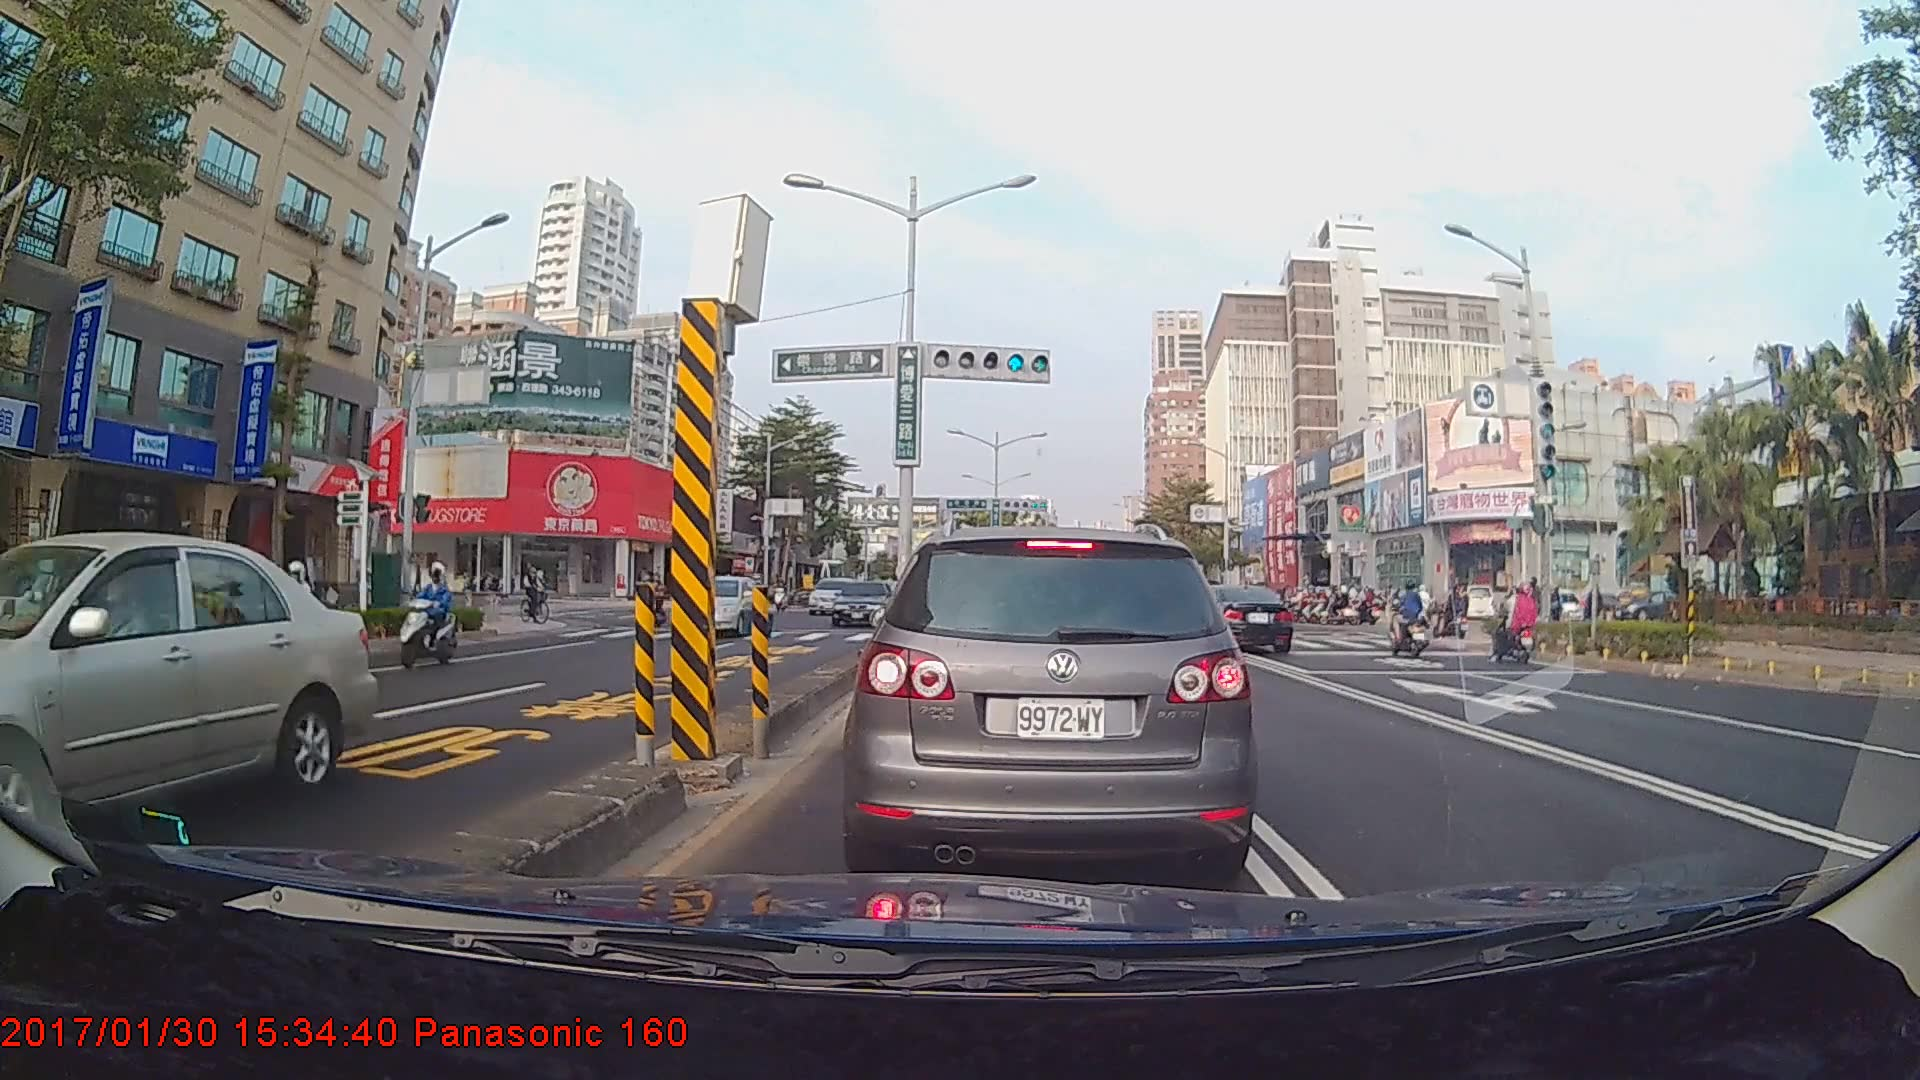rider: (395, 557, 469, 667), (1485, 582, 1548, 668), (1384, 580, 1439, 658), (518, 559, 561, 629), (1436, 582, 1473, 646)
vehicle: (854, 520, 1251, 880), (0, 529, 380, 869), (1182, 582, 1294, 655), (663, 574, 765, 637), (829, 577, 899, 627), (808, 576, 862, 616)
